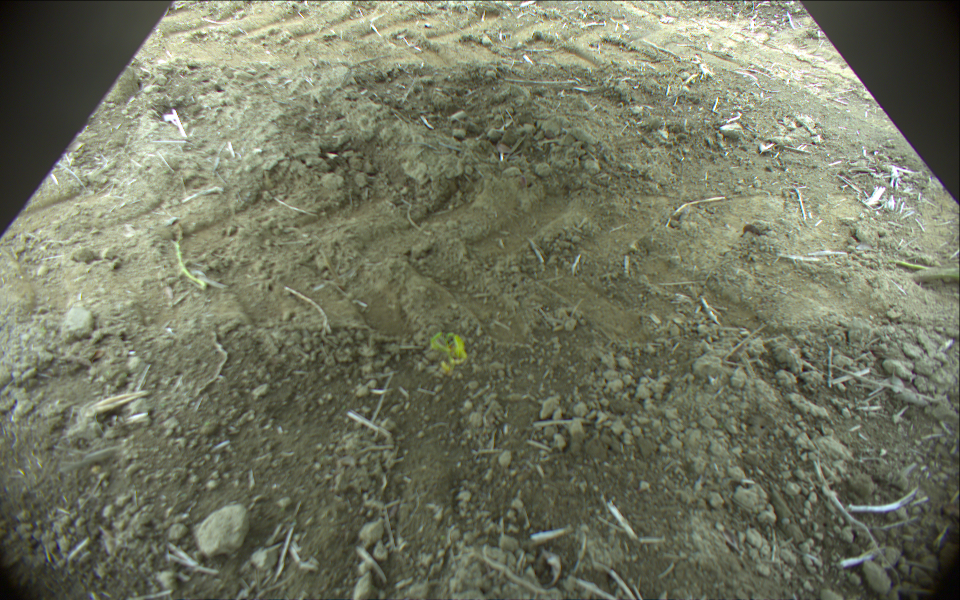aspa: (170, 226, 208, 289)
